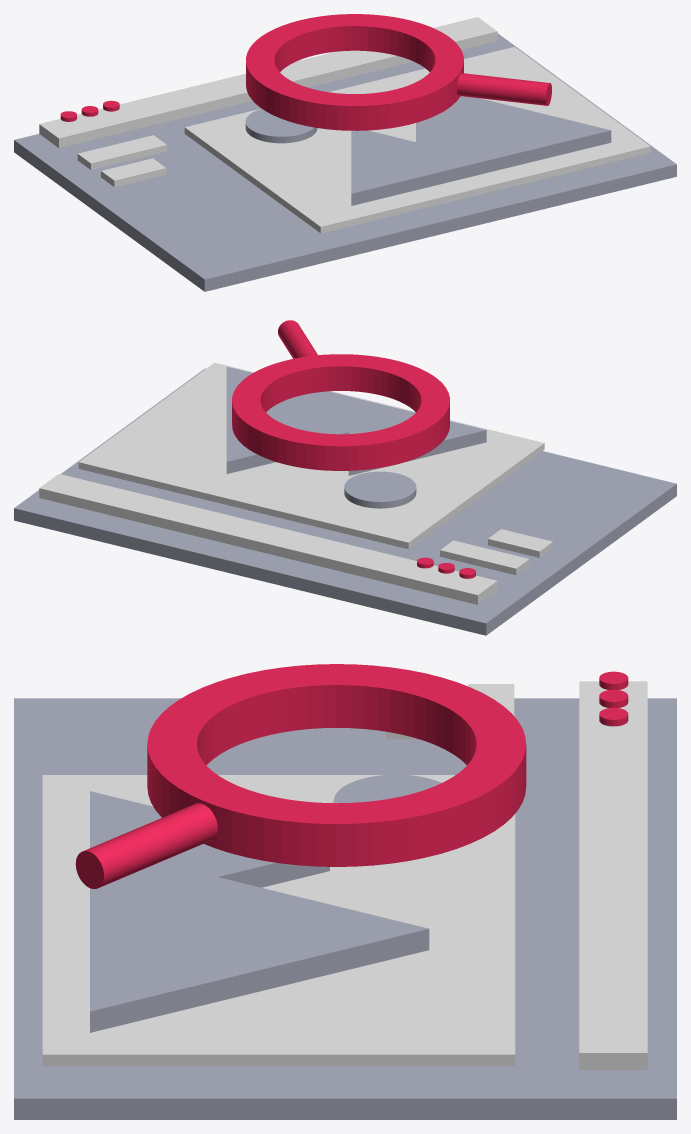
Rendered from WebPageModel.gltf.
The picture shows the model from 3 angles, top to bottom: view 1: azimuth 30°, elevation 25°; view 2: azimuth 150°, elevation 25°; view 3: azimuth 270°, elevation 25°; orthographic projection. The views are drawn at different scales.
Parts seen in each view (by area): view 1: WebPageModel; view 2: WebPageModel; view 3: WebPageModel.
Boxes of the visible parts, <box> form: WebPageModel: <box>14,14,676,291</box>; WebPageModel: <box>14,320,676,635</box>; WebPageModel: <box>14,664,676,1119</box>.
Size of what is drawn, in the model's own units: 2 by 0.4233 by 1.4.
